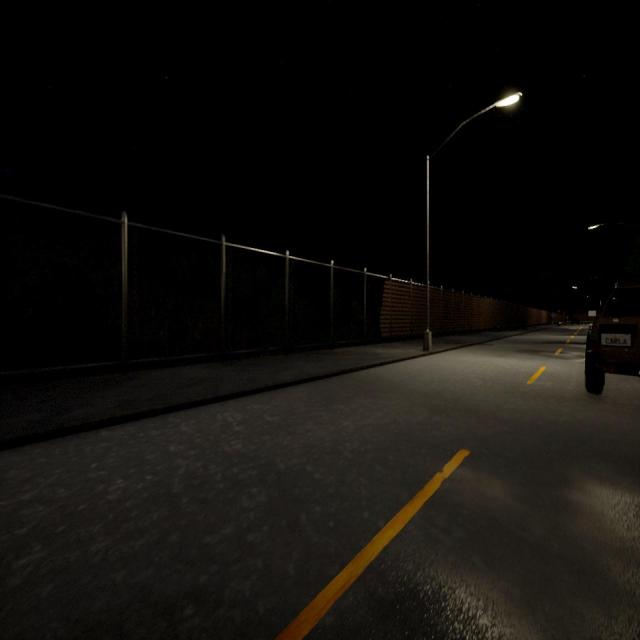Vehicle: (584, 285, 640, 394)
